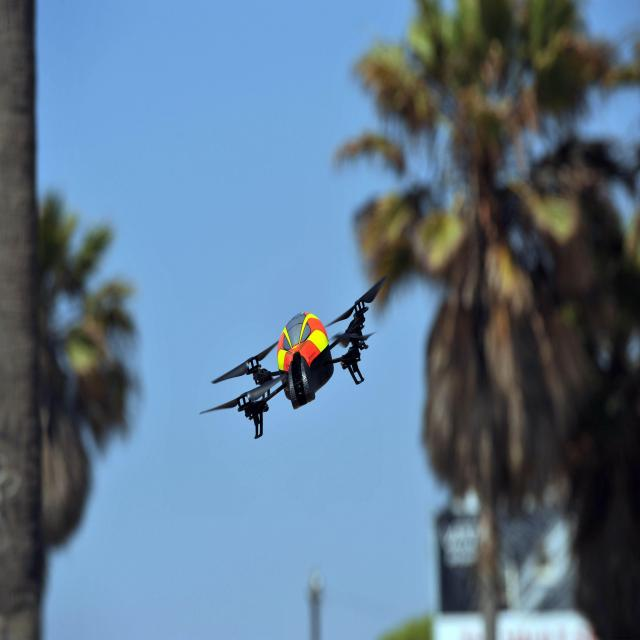UAV: (213, 284, 381, 439)
